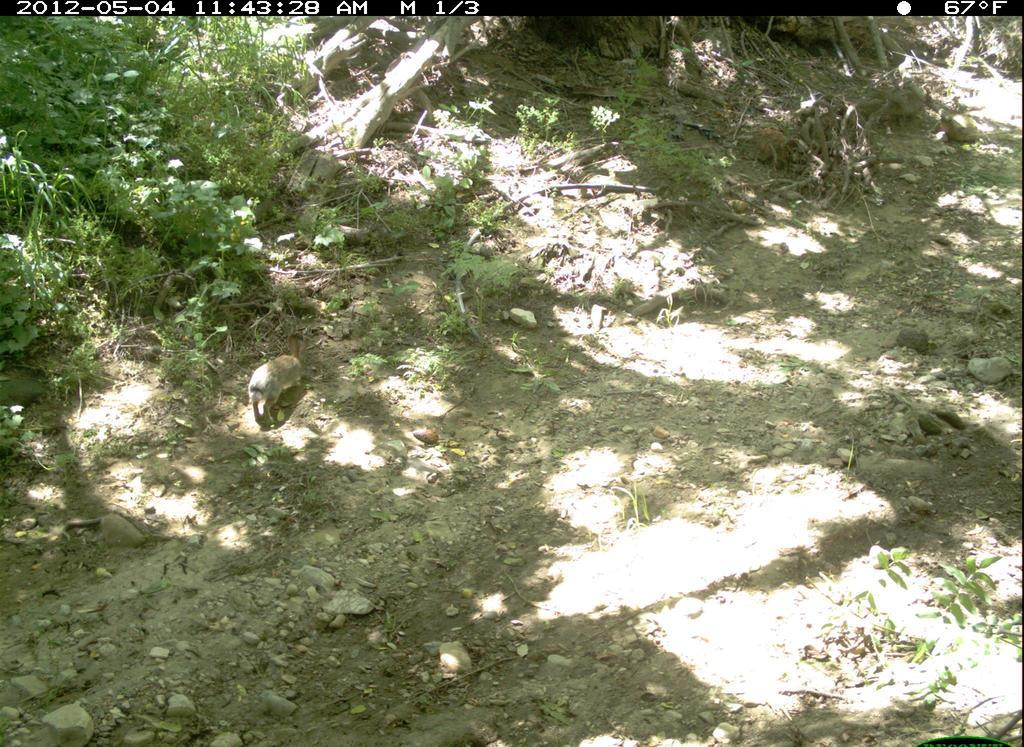rabbit: (239, 328, 324, 433)
